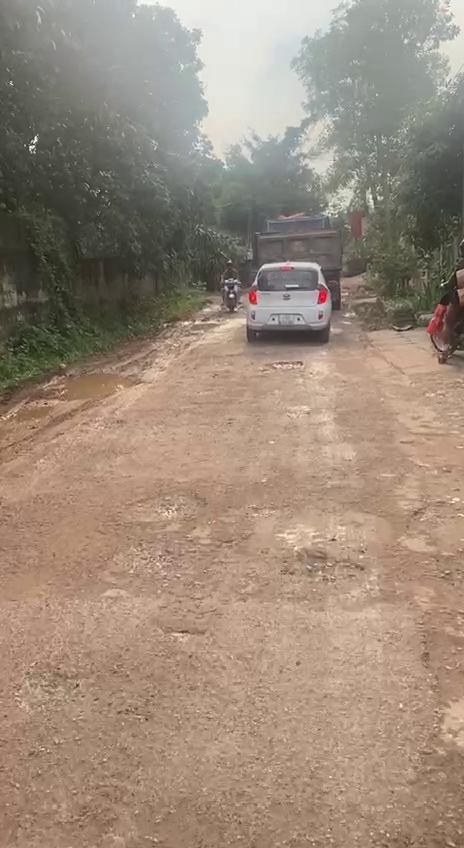pothole: (389, 440, 464, 848), (83, 786, 225, 848), (270, 548, 367, 599), (118, 486, 215, 524), (160, 612, 215, 651)
